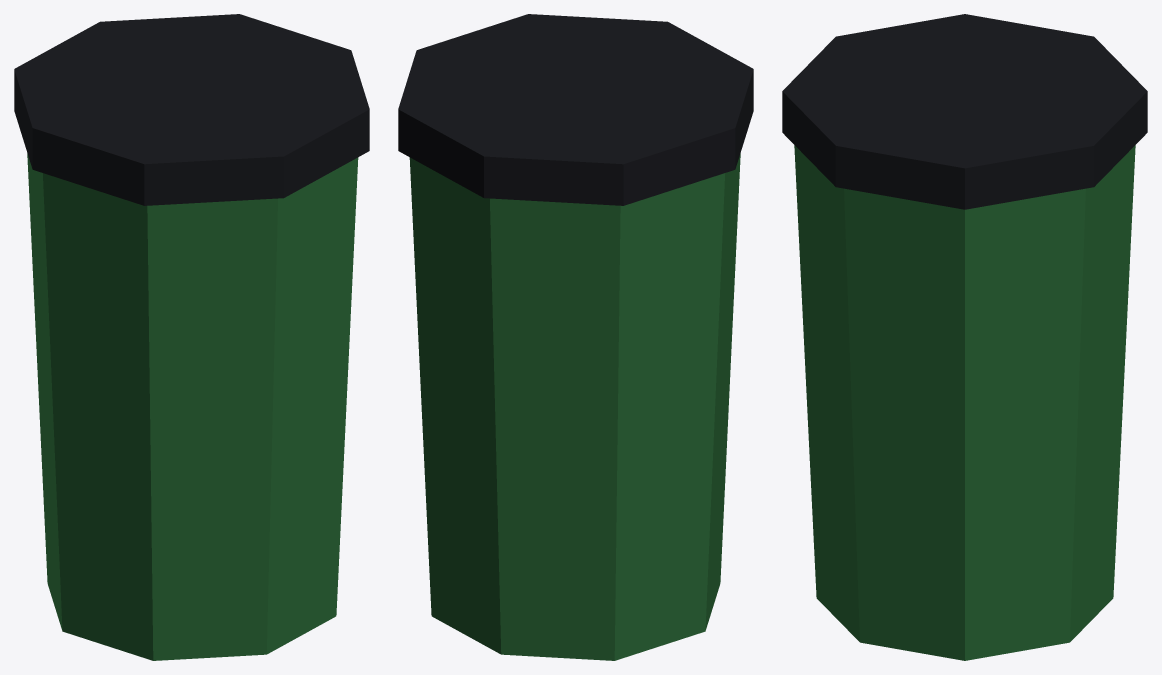
File: prop_bin.glb
The picture shows the model from 3 angles, left to right: view 1: azimuth 30°, elevation 25°; view 2: azimuth 150°, elevation 25°; view 3: azimuth 270°, elevation 25°; orthographic projection.
Visible parts, largest first — view 1: prop_bin__mesh; view 2: prop_bin__mesh; view 3: prop_bin__mesh.
Part boxes in pixels (x1=…): prop_bin__mesh: x1=14, y1=14, x2=369, y2=660; prop_bin__mesh: x1=398, y1=14, x2=753, y2=660; prop_bin__mesh: x1=782, y1=14, x2=1147, y2=660.
Size of the model in its own units: 0.64 by 0.98 by 0.64.
